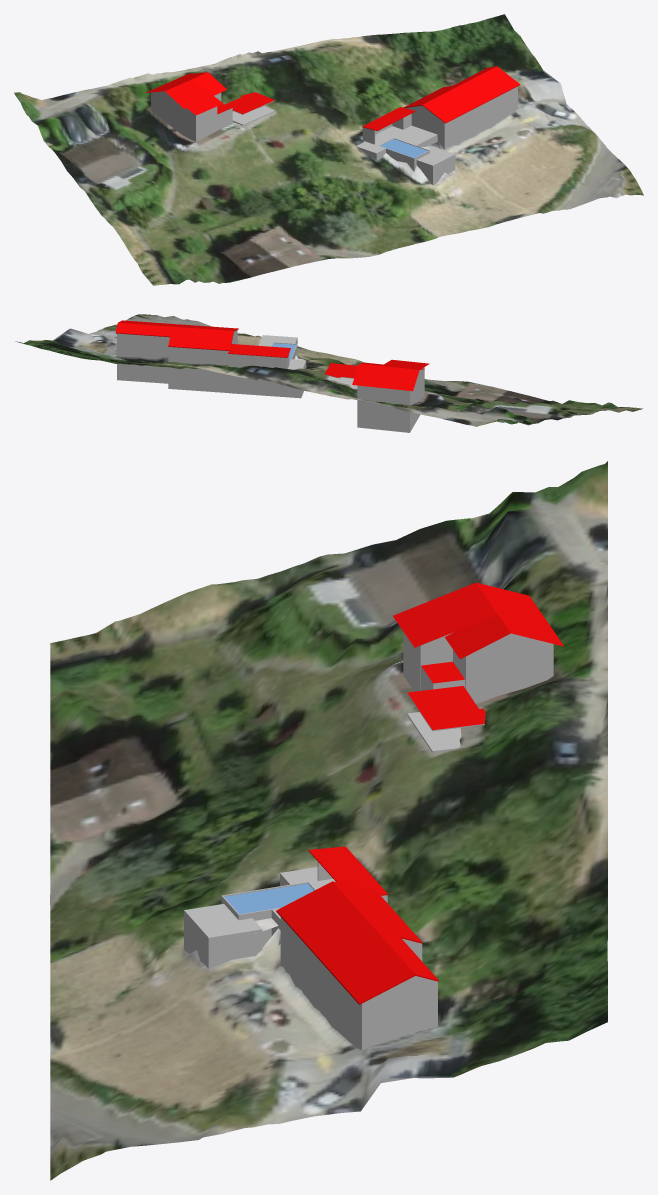
File: existant.glb
3 views of the same model, one above another, from view 1: azimuth 30°, elevation 25°; view 2: azimuth 150°, elevation 25°; view 3: azimuth 270°, elevation 25° (orthographic). The views are drawn at different scales.
Visible parts, largest first — view 1: Terrain, Maison Voisin, Maison existante; view 2: Terrain, Maison Voisin, Maison existante; view 3: Terrain, Maison Voisin, Maison existante.
Part boxes in pixels (x1,y1,x2,y2): Terrain: (14,14,643,285); Maison Voisin: (356,66,520,185); Maison existante: (145,72,275,141); Terrain: (15,314,642,426); Maison Voisin: (115,320,306,398); Maison existante: (324,359,429,432); Terrain: (50,461,607,1180); Maison Voisin: (184,846,438,1082); Maison existante: (393,582,563,752).
Bounding box in the file's own units: 98.46 × 23.12 × 48.49.
4 materials, 1 textured.
